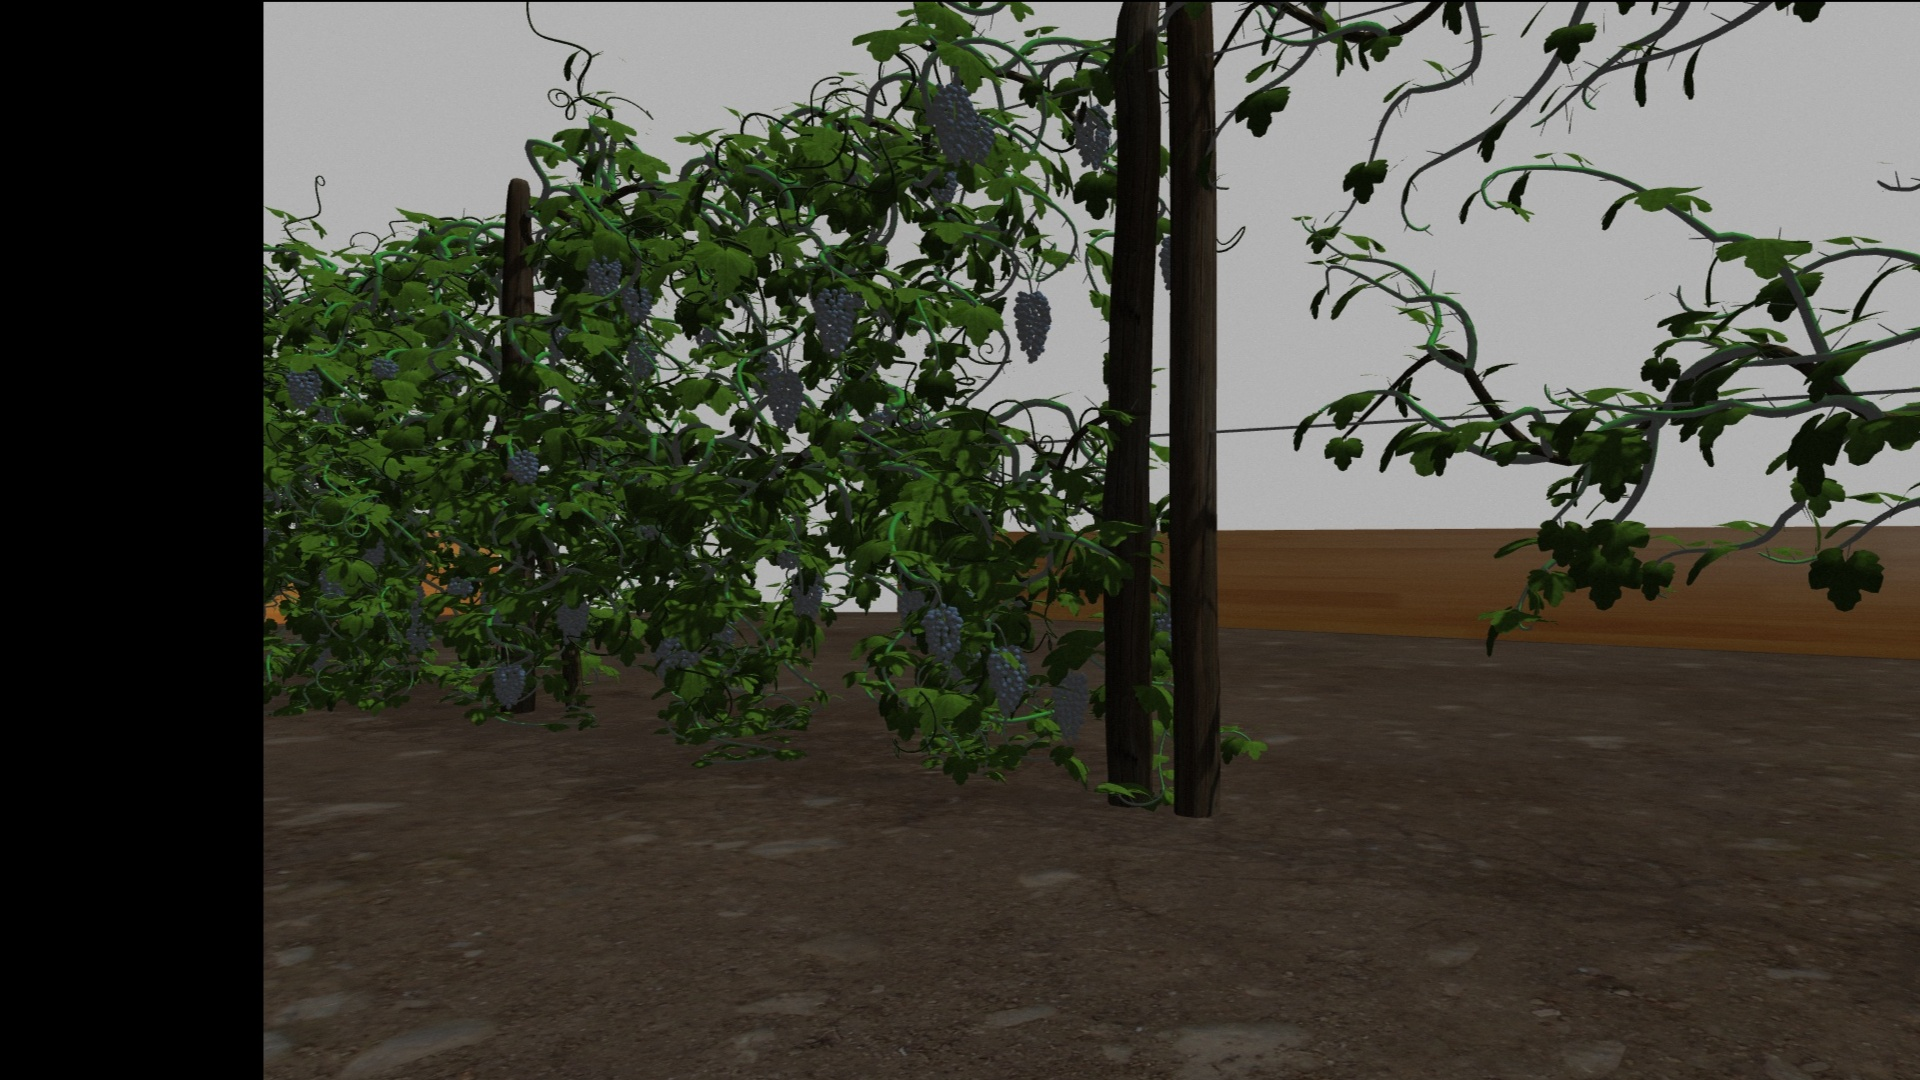grape: (930, 84, 973, 160), (985, 645, 1029, 717), (1051, 669, 1089, 744), (1014, 287, 1050, 365), (815, 287, 855, 357), (1071, 103, 1112, 170), (922, 601, 963, 667), (764, 371, 804, 430), (554, 597, 592, 647), (653, 634, 692, 676), (489, 663, 525, 708), (790, 572, 823, 618), (585, 255, 620, 298), (964, 117, 996, 162), (284, 371, 322, 407), (620, 284, 653, 324), (625, 334, 654, 378), (506, 448, 541, 485), (930, 170, 957, 204), (406, 618, 433, 651), (371, 355, 400, 378), (448, 575, 473, 599)
